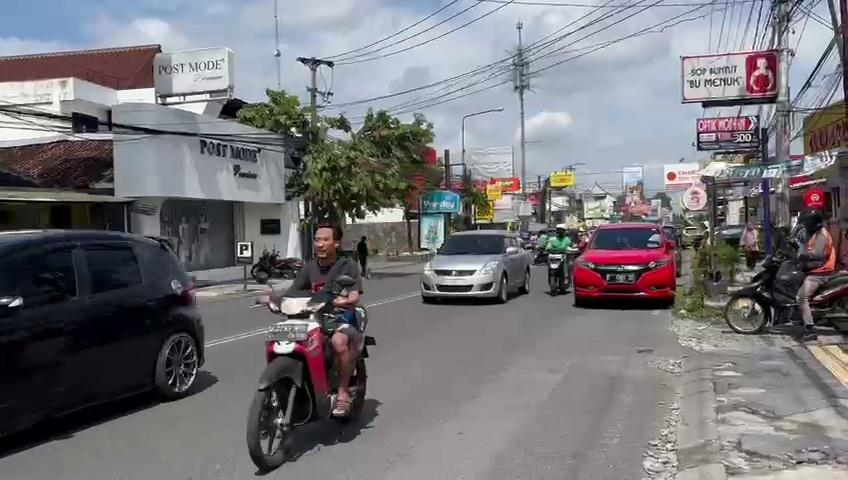helm: (796, 208, 824, 234)
nohelm: (313, 222, 344, 260)
riding: (245, 222, 379, 472), (724, 208, 848, 344)
